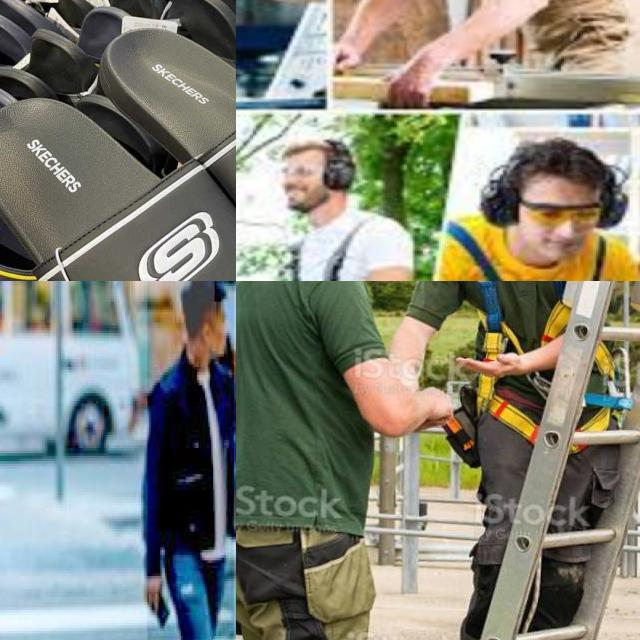Ear-protection: (470, 130, 627, 268), (277, 140, 360, 220)
Harness: (476, 281, 627, 463)
Sandals: (0, 8, 236, 281)
face_nomask: (211, 302, 229, 356)
glasses: (513, 197, 612, 233)
head_nohelmet: (178, 281, 229, 316)
person: (147, 281, 235, 640), (339, 0, 625, 103)
